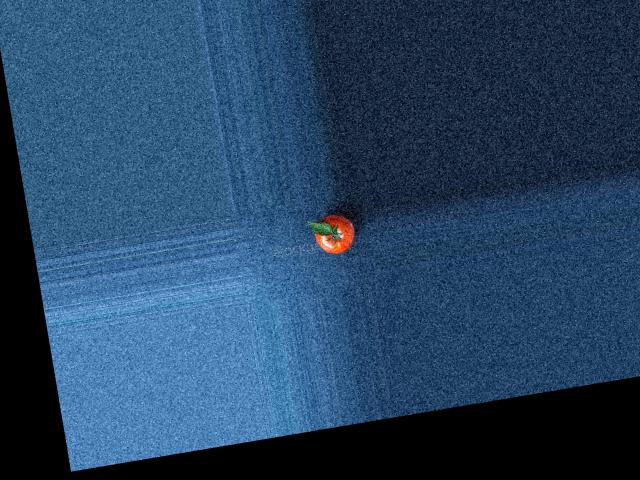tomato: (312, 211, 357, 256)
